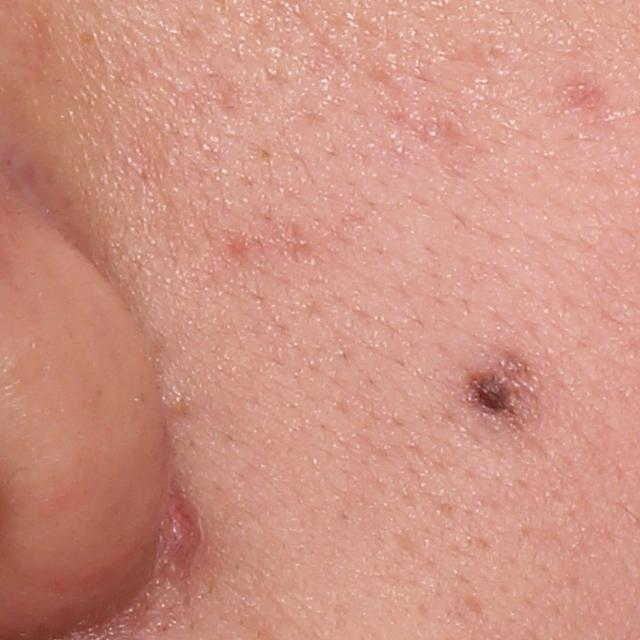nevus: (464, 372, 517, 422)
